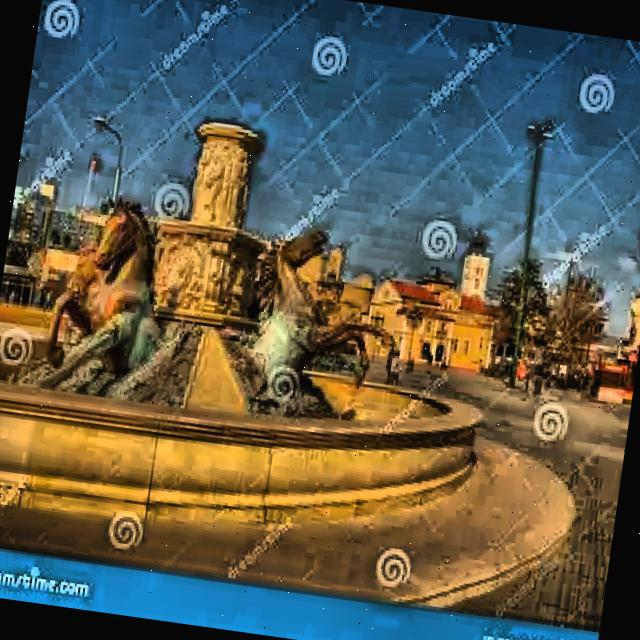Philip II of Macedonia: (614, 231, 640, 394)
